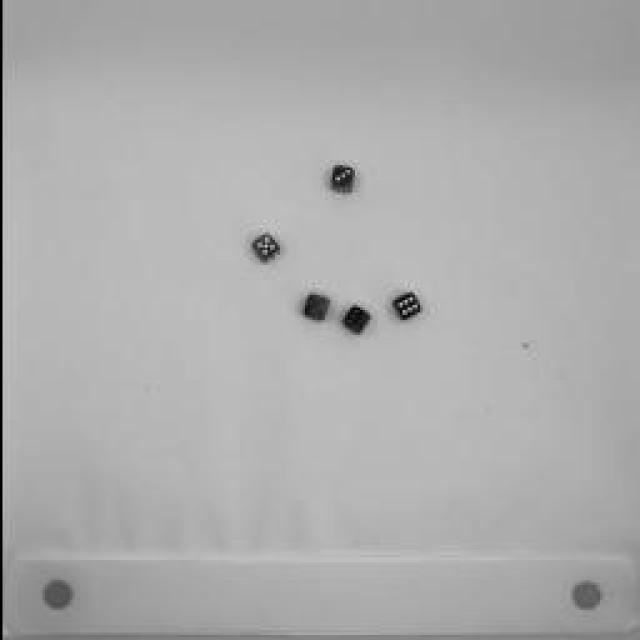dice_2: (296, 292, 332, 328)
dice_3: (325, 164, 355, 196)
dice_5: (241, 230, 281, 268)
dice_6: (340, 305, 370, 337), (391, 292, 419, 322)
